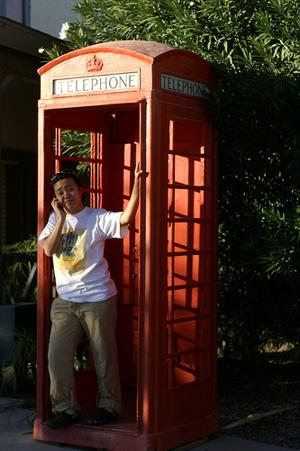person: (37, 160, 141, 434)
